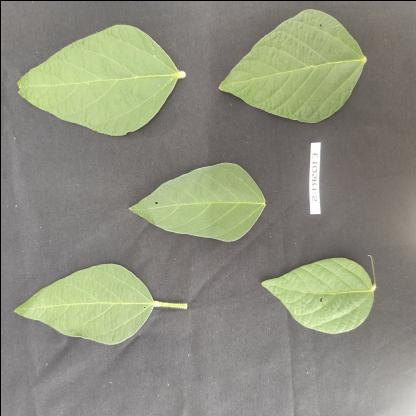label: (300, 138, 330, 216)
leaflets: (1, 11, 182, 132), (216, 10, 376, 124), (0, 250, 180, 346), (122, 146, 276, 242), (276, 251, 388, 341)
